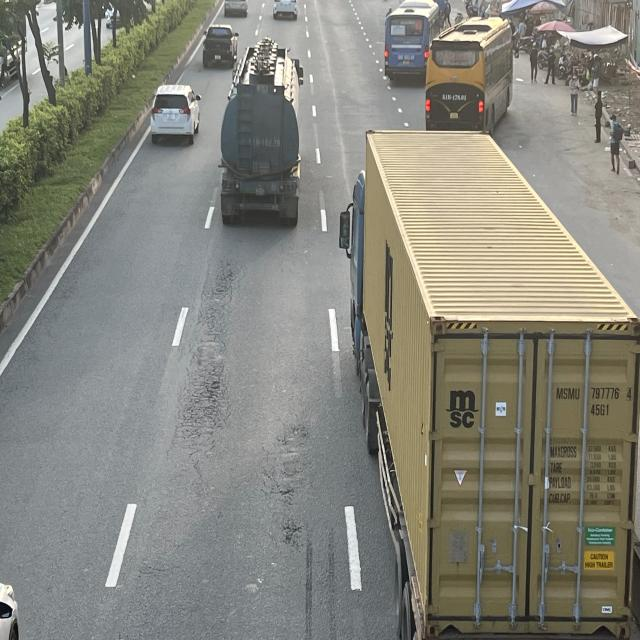car: (153, 81, 204, 140), (202, 22, 240, 68), (271, 0, 298, 20), (224, 0, 250, 18)
coach: (426, 17, 516, 143), (383, 2, 436, 82)
container: (335, 127, 636, 636), (219, 43, 304, 227)
